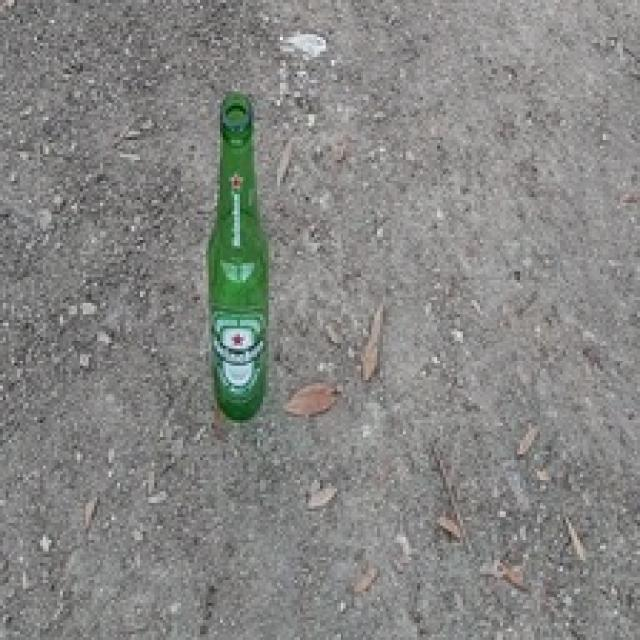Glass: (206, 95, 273, 422)
